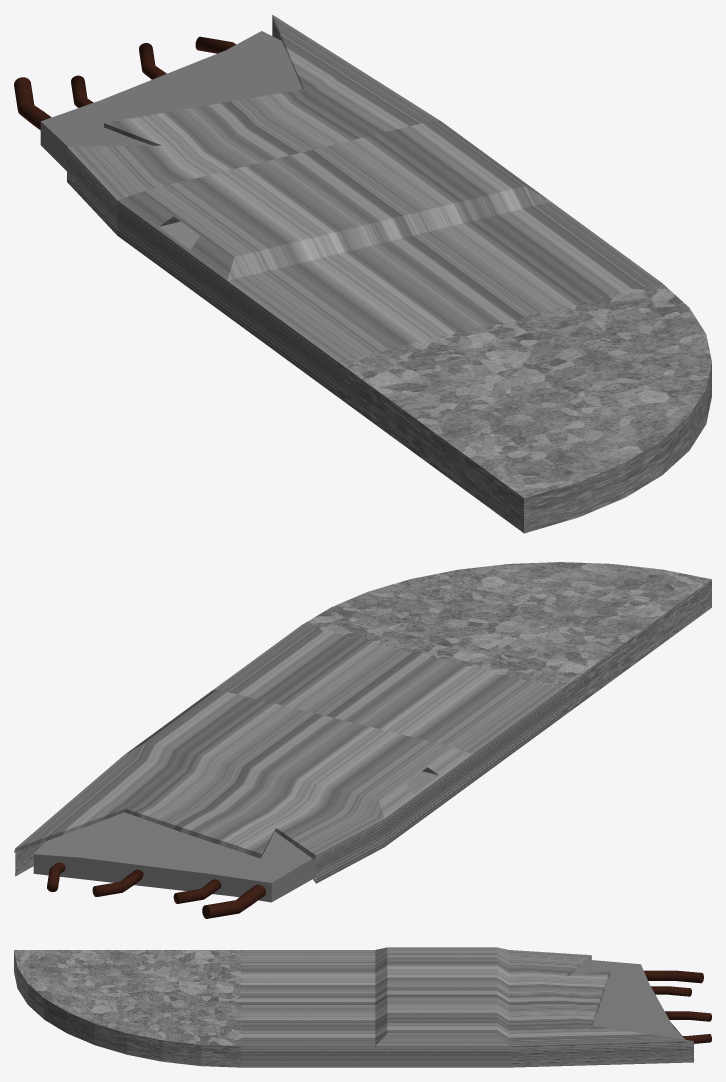
File: Wing-fractured.fbx
The picture shows the model from 3 angles, top to bottom: view 1: azimuth 30°, elevation 25°; view 2: azimuth 150°, elevation 25°; view 3: azimuth 270°, elevation 25°; orthographic projection. The views are drawn at different scales.
Parts seen in each view (by area): view 1: Cube.002, Cube.004, Cube.003, Cube, Cube.001, Cube.005, Cylinder; view 2: Cube.002, Cube.004, Cube.003, Cube, Cube.001, Cube.005, Cylinder, Cylinder.002, Cylinder.001; view 3: Cube.002, Cube.004, Cube.003, Cube, Cube.001, Cube.005, Cylinder, Cylinder.002, Cylinder.001.
Boxes of the visible parts, x1,y1,x2,y2 form: Cube.002: (337, 282, 711, 533); Cube.004: (227, 202, 660, 395); Cube.003: (117, 120, 550, 280); Cube: (67, 15, 440, 235); Cube.001: (40, 31, 302, 170); Cube.005: (117, 201, 227, 315); Cylinder: (14, 77, 51, 130); Cube.002: (301, 562, 711, 717); Cube.004: (212, 626, 561, 782); Cube.003: (124, 689, 472, 818); Cube: (14, 755, 384, 883); Cube.001: (33, 812, 315, 902); Cube.005: (384, 754, 472, 846); Cylinder: (202, 884, 265, 918); Cylinder.002: (92, 869, 143, 896); Cylinder.001: (173, 879, 221, 903); Cube.002: (14, 950, 241, 1067); Cube.004: (240, 950, 375, 1067); Cube.003: (375, 947, 508, 1046); Cube: (509, 950, 694, 1067); Cube.001: (569, 960, 684, 1039); Cube.005: (375, 1046, 508, 1067); Cylinder: (644, 970, 703, 983); Cylinder.002: (665, 1011, 711, 1021); Cylinder.001: (651, 986, 691, 996).
Bounding box in the file's own units: 200 × 28.19 × 613.
